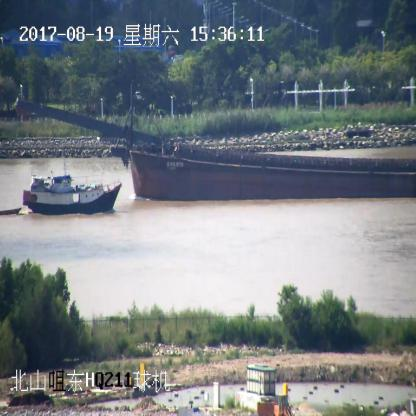Bulk Carrier: (16, 98, 416, 199)
